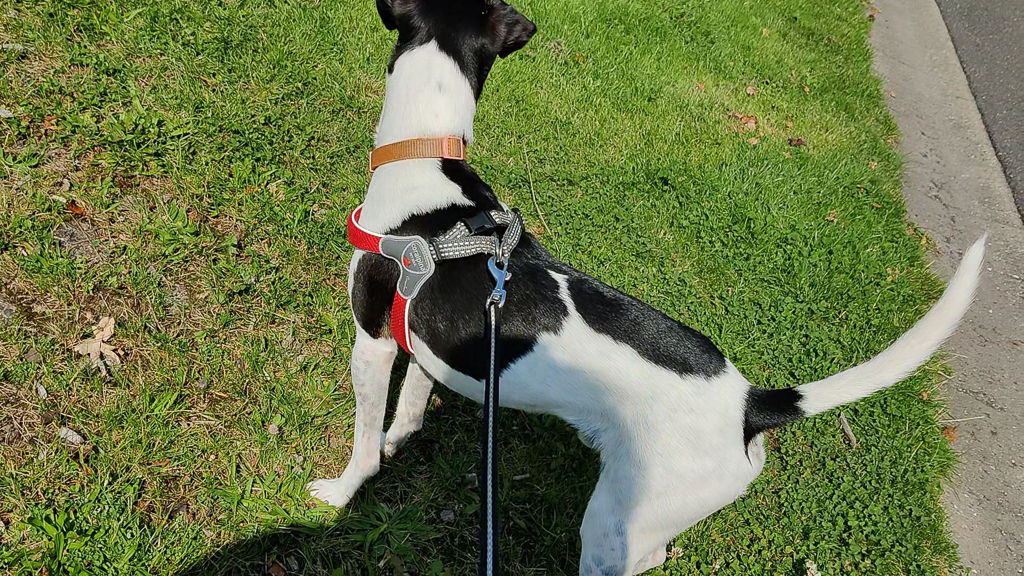Dog: (288, 0, 1000, 576)
